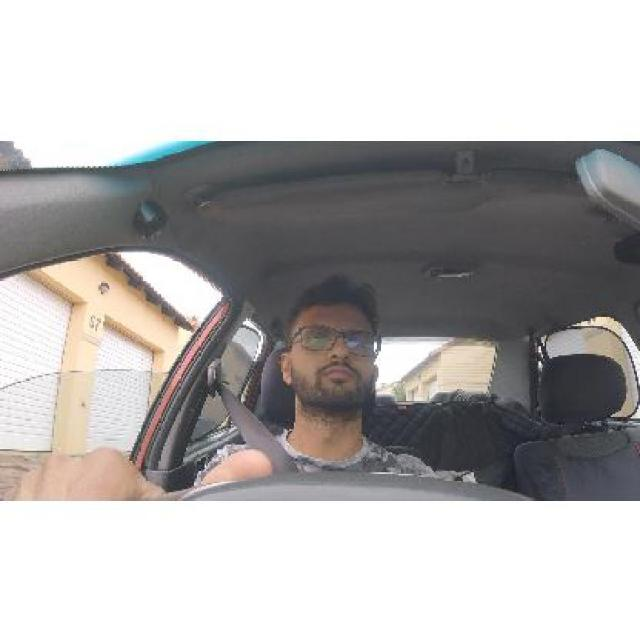person: (279, 262, 406, 420)
